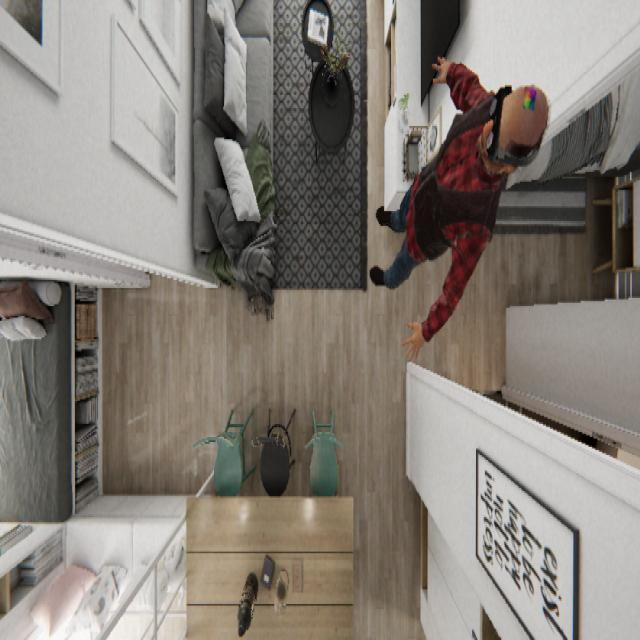Colored-Marker: (521, 82, 538, 113)
Human: (369, 51, 550, 365)
